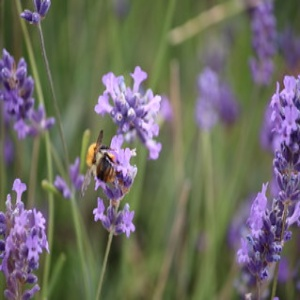bee: (82, 130, 119, 206)
